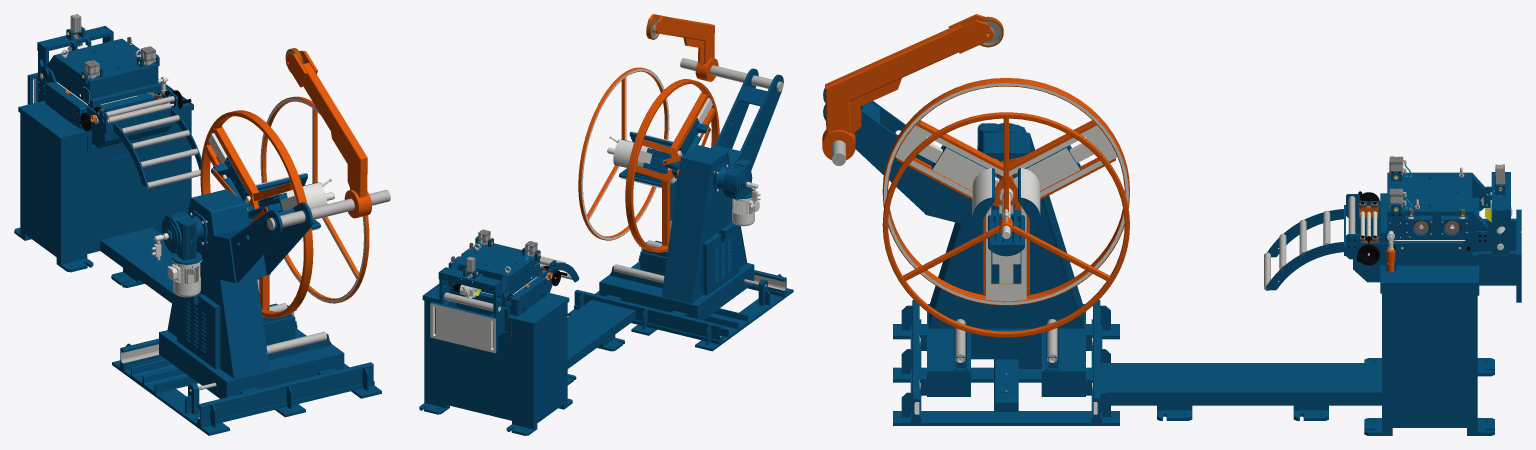
3 views of the same model, side by side, from view 1: azimuth 30°, elevation 25°; view 2: azimuth 150°, elevation 25°; view 3: azimuth 270°, elevation 25° (orthographic). The views are drawn at different scales.
Parts seen in each view (by area): view 1: Solido7.003, Solido2.001, Solido4.004, Solido10.001, Solido17.002, Solido2.021, Solido2.019, Solido31, Solido7, Solido2.008, Solido2.006, Solido124 (+29 smaller); view 2: Solido6.004, Solido2.001, Solido4.004, Solido10.001, Solido31, Solido2.019, Solido158, Solido2.008, Solido17.002, Solido124, Solido2.017, Solido2.006 (+15 smaller); view 3: Solido3.007, Solido2.008, Solido2.001, Solido31, Solido124, Solido2.021, Solido10.001, Solido17.002, Solido2.019, Solido4, Solido75, Solido59 (+13 smaller).
Boxes of the visible parts, bbox=[...] form: Solido7.003: bbox=[62, 111, 190, 260]; Solido2.001: bbox=[167, 189, 269, 378]; Solido4.004: bbox=[18, 104, 87, 260]; Solido10.001: bbox=[159, 303, 344, 398]; Solido17.002: bbox=[47, 38, 161, 109]; Solido2.021: bbox=[286, 50, 371, 218]; Solido2.019: bbox=[227, 202, 312, 282]; Solido31: bbox=[200, 110, 313, 318]; Solido7: bbox=[197, 362, 373, 422]; Solido2.008: bbox=[100, 227, 174, 302]; Solido2.006: bbox=[177, 294, 221, 369]; Solido124: bbox=[260, 96, 369, 303]; Solido6.004: bbox=[425, 301, 532, 425]; Solido2.001: bbox=[661, 145, 747, 303]; Solido4.004: bbox=[511, 295, 569, 425]; Solido10.001: bbox=[599, 240, 754, 320]; Solido31: bbox=[625, 79, 719, 252]; Solido2.019: bbox=[712, 68, 783, 169]; Solido158: bbox=[430, 300, 504, 353]; Solido2.008: bbox=[567, 300, 634, 368]; Solido17.002: bbox=[448, 243, 542, 300]; Solido124: bbox=[578, 67, 669, 240]; Solido2.017: bbox=[438, 257, 502, 323]; Solido2.006: bbox=[701, 222, 739, 295]; Solido3.007: bbox=[1382, 289, 1477, 427]; Solido2.008: bbox=[1104, 363, 1381, 405]; Solido2.001: bbox=[928, 132, 1084, 328]; Solido31: bbox=[882, 78, 1129, 305]; Solido124: bbox=[882, 112, 1129, 337]; Solido2.021: bbox=[822, 14, 993, 160]; Solido10.001: bbox=[927, 304, 1085, 396]; Solido17.002: bbox=[1380, 172, 1487, 241]; Solido2.019: bbox=[823, 88, 939, 215]; Solido4: bbox=[893, 411, 1119, 425]; Solido75: bbox=[932, 146, 994, 227]; Solido59: bbox=[1018, 146, 1080, 227].
Bounding box in the file's own units: 1.54 × 2.38 × 3.96.
Materials: 76 (1 with a texture image).
